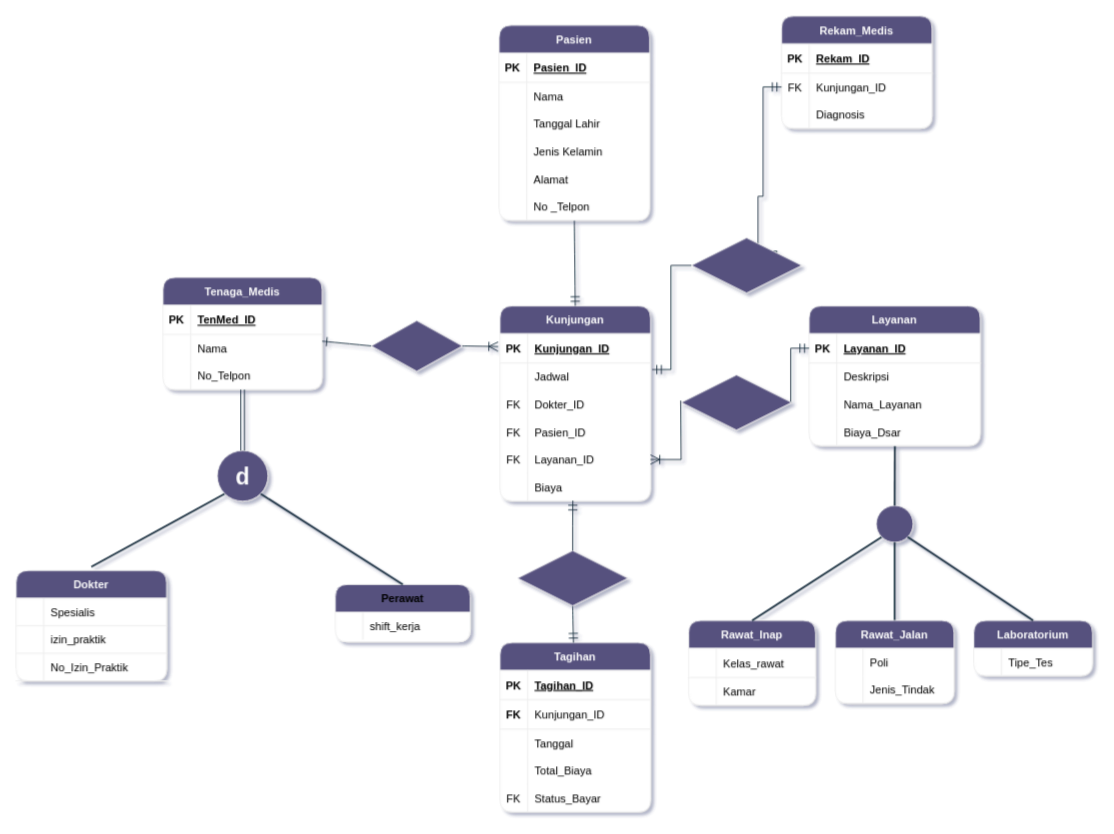
The diagram is 1114 pixels wide and 834 high, and some of its shapes have lost their labels. The centre of each missing label's shape, as x and y in pixels:
"Membutuhkan" belongs at (746,265).
"Memiliki" belongs at (416,345).
"Menggunakan" belongs at (736,402).
"Menghasilkan" belongs at (572,578).
